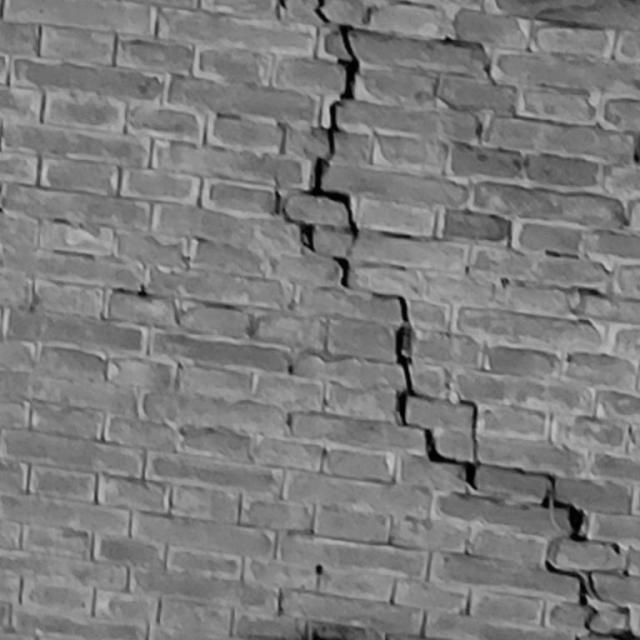crack: (275, 1, 640, 640)
